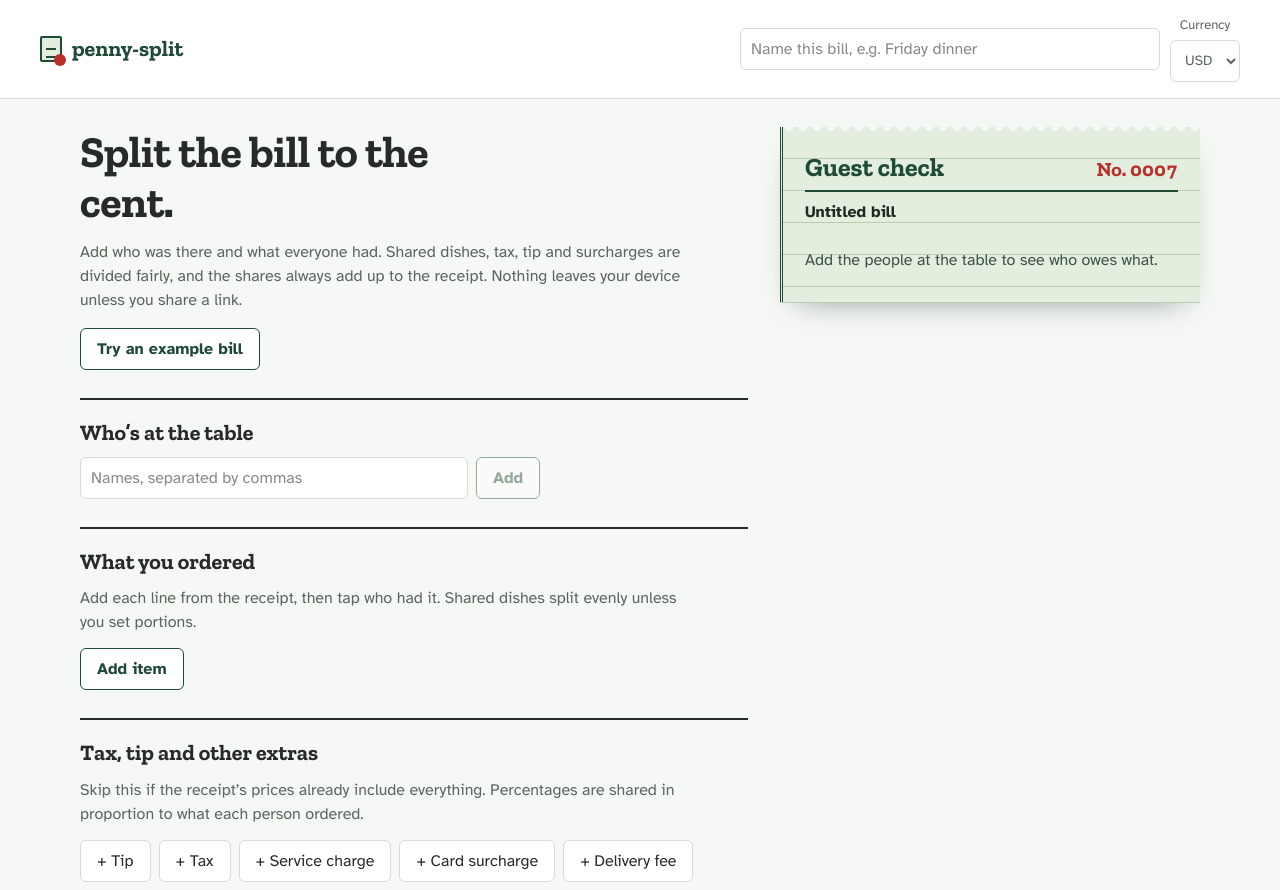
it: App › shows an error for an unreadable price and keeps the last good value
Step 1. Type "Ana" into the field named "Add a person" → [274, 478], box [80,457,468,499]
Then press Enter
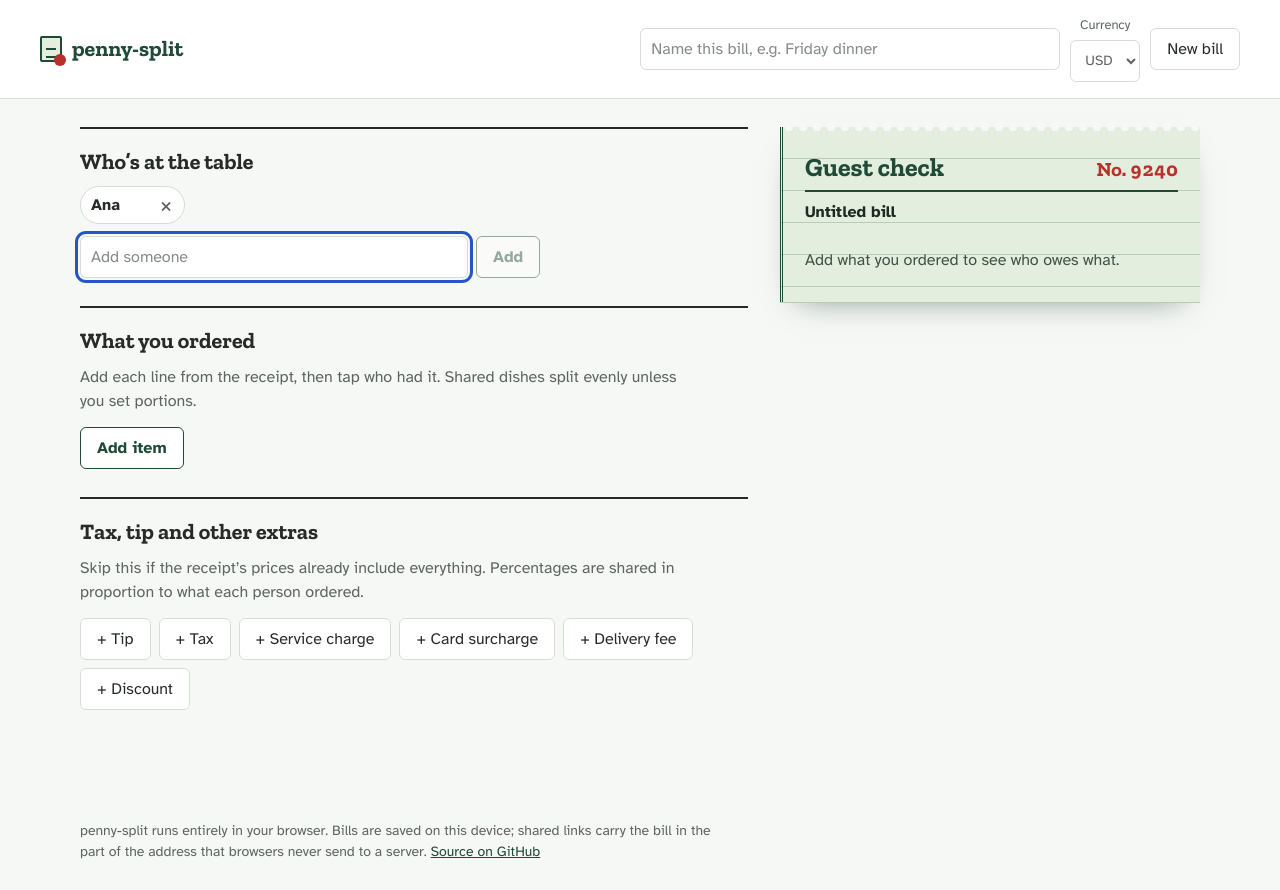
Step 2. Click the button "Add item" → [132, 448], box [80,427,184,469]
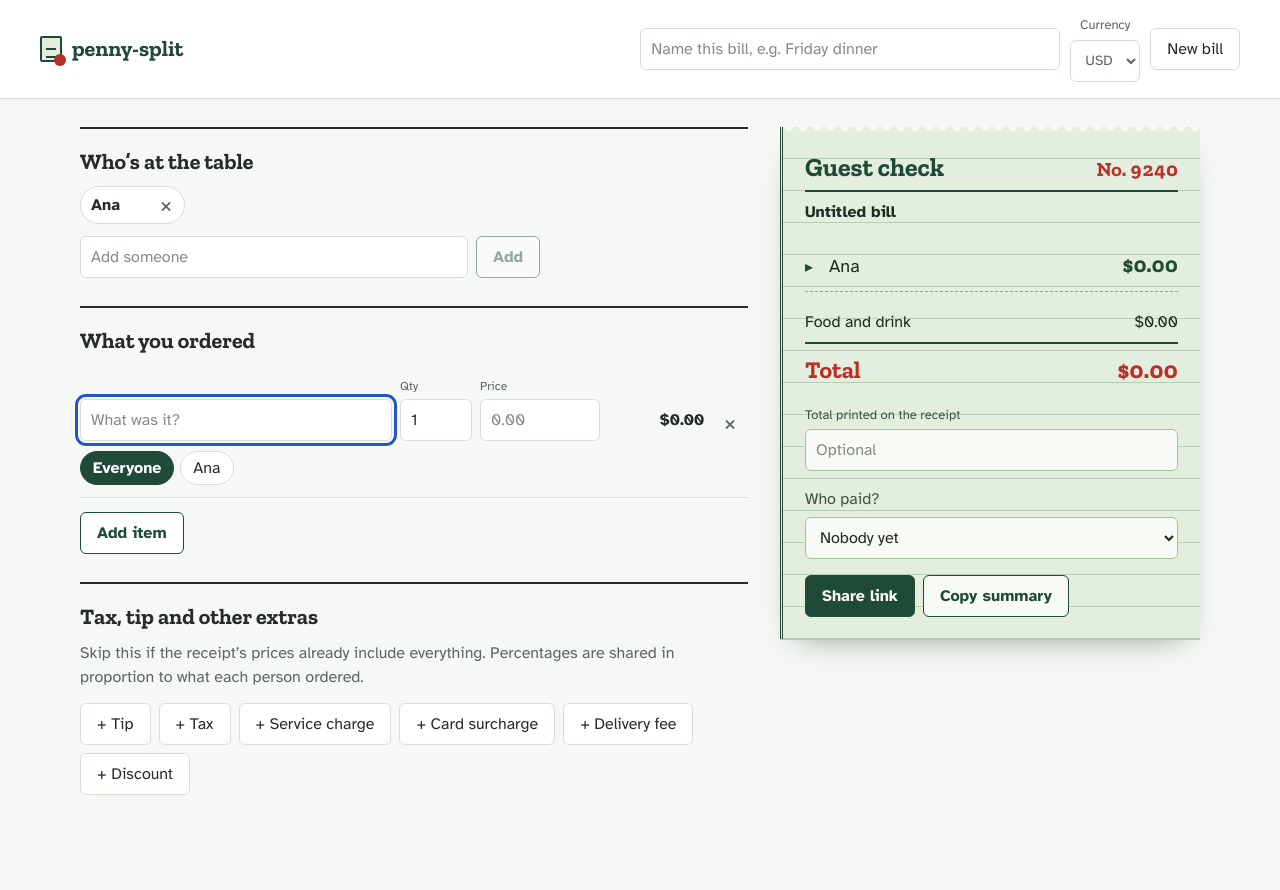
Step 3. Type "12.345" into the field labelled "Price" → [540, 420], box [480,399,600,441]
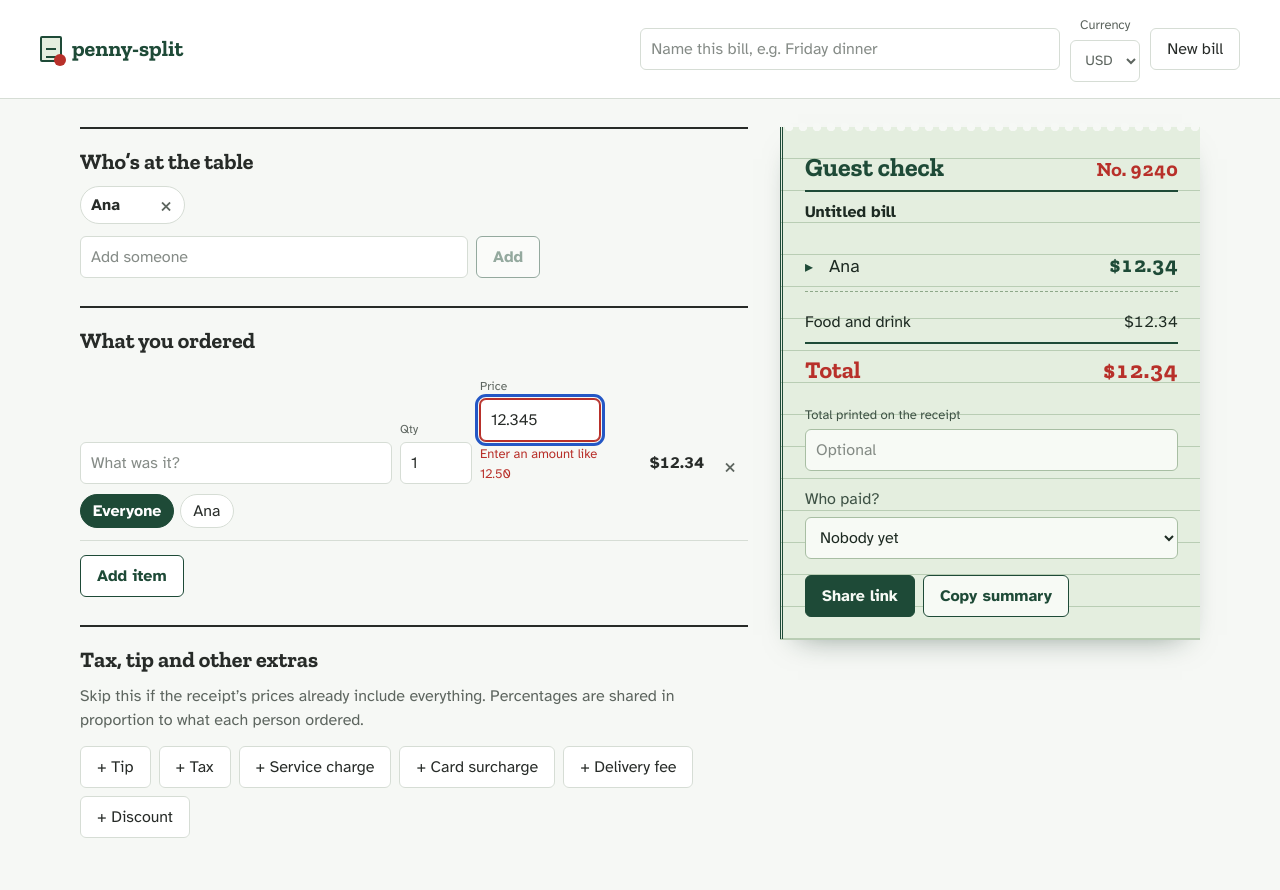
Result: the message reads "Enter an amount like 12.50" at [480,446,597,482]
